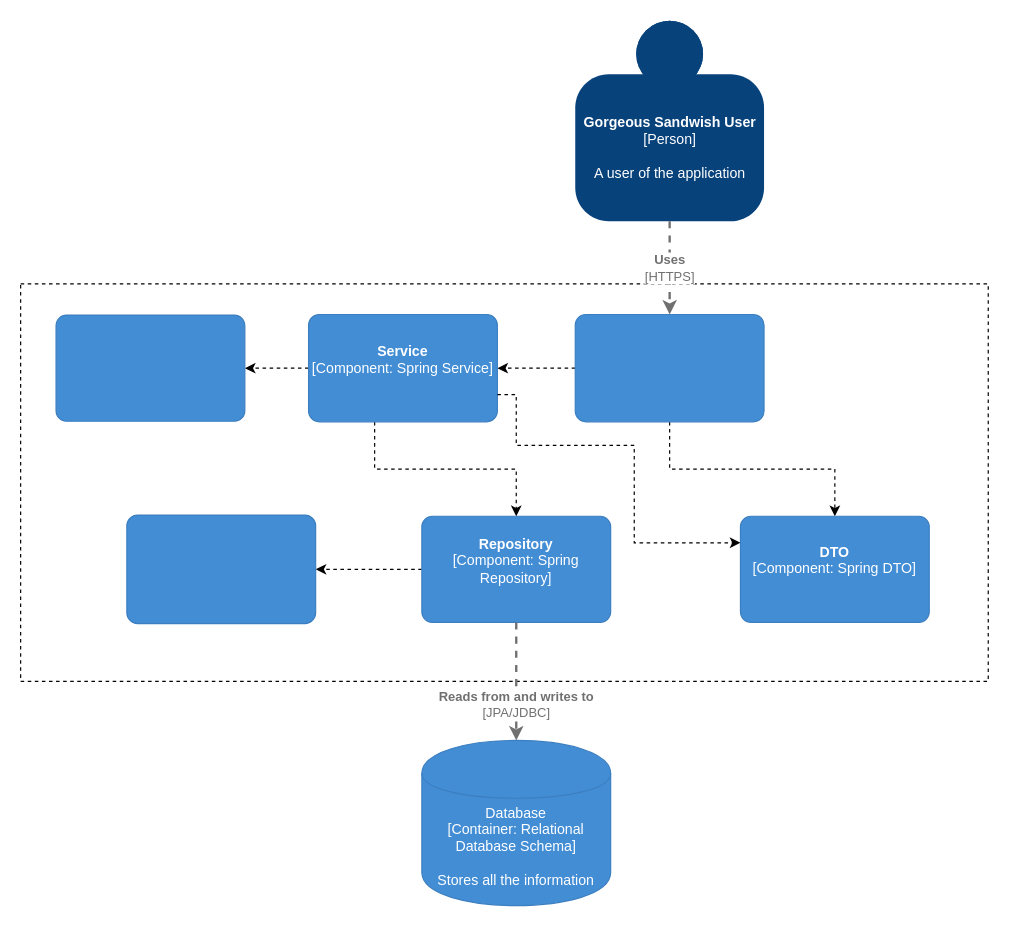
This 1009x926 diagram has some shape labels left out. The shapes that lost their labels are listed below. From the top down, each one's centre as x and y in pixels, then its label:
At (150,367): "Utils [Component: ]".
At (669,367): "Controller [Component: Spring MVC Controller]".
At (221,569): "Model [Component: Spring Model]".
